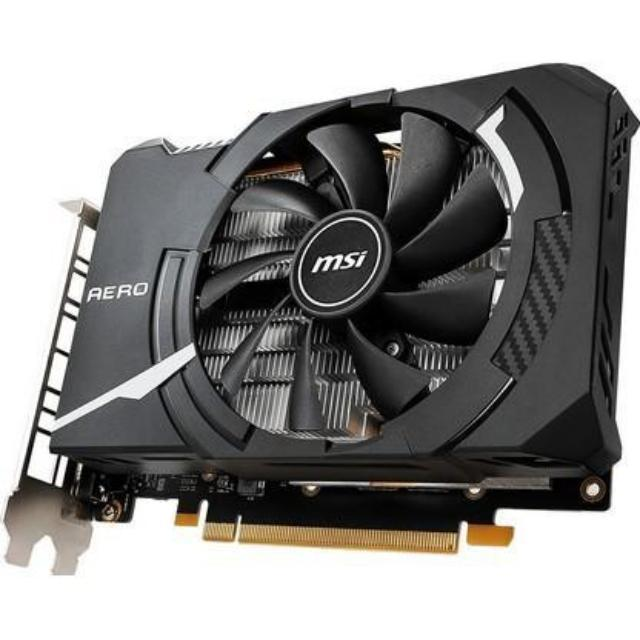GPU: (0, 57, 637, 569)
